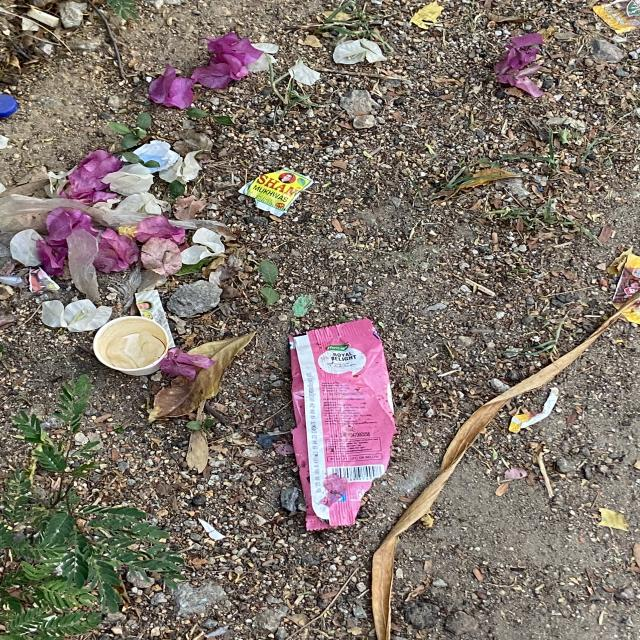giay_goi: (290, 319, 395, 531), (237, 168, 313, 217)
ly_hop_giay: (92, 316, 173, 376)
rac_huu_co: (372, 291, 640, 640)
